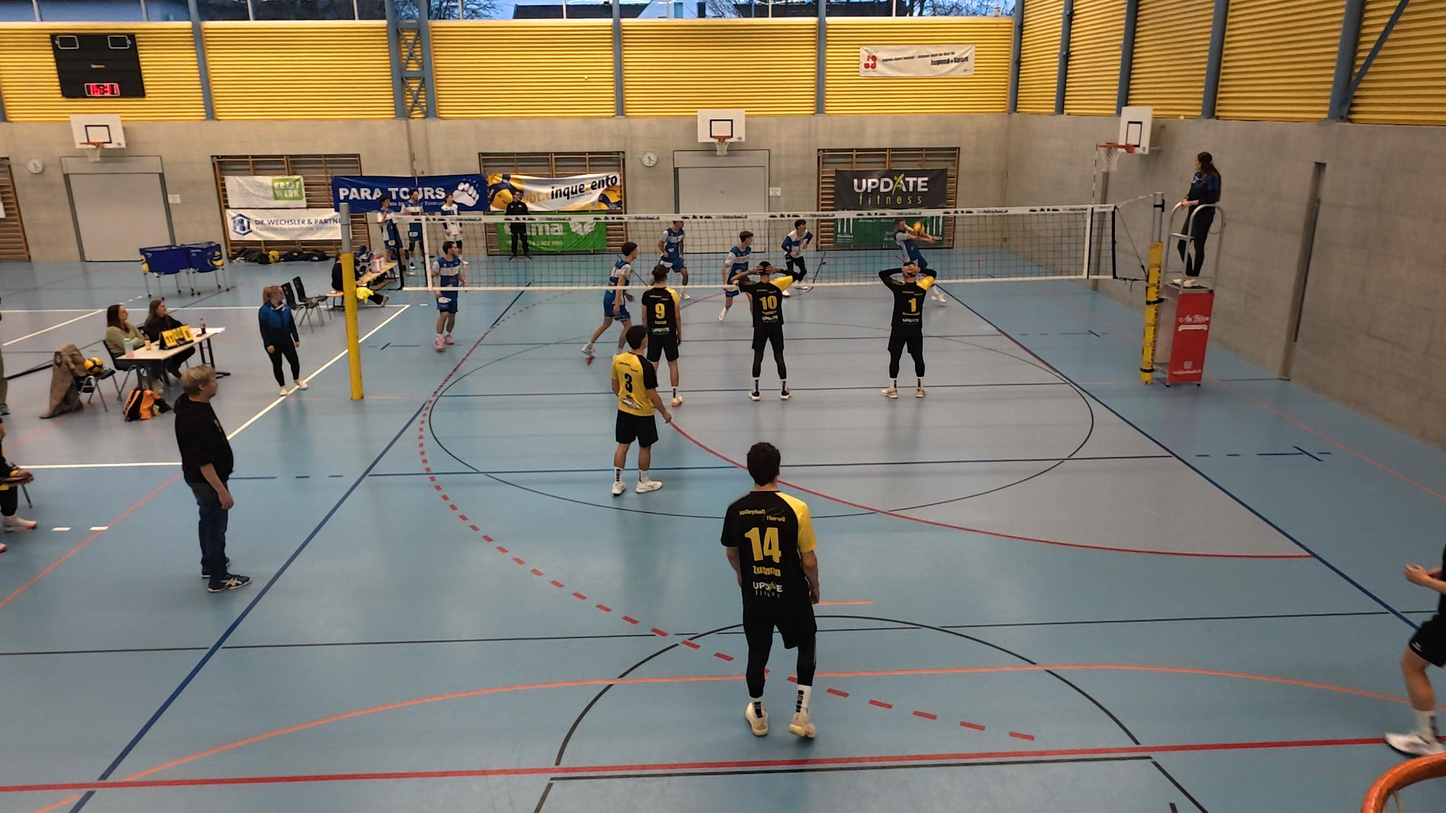ricezione: (888, 208, 949, 306)
